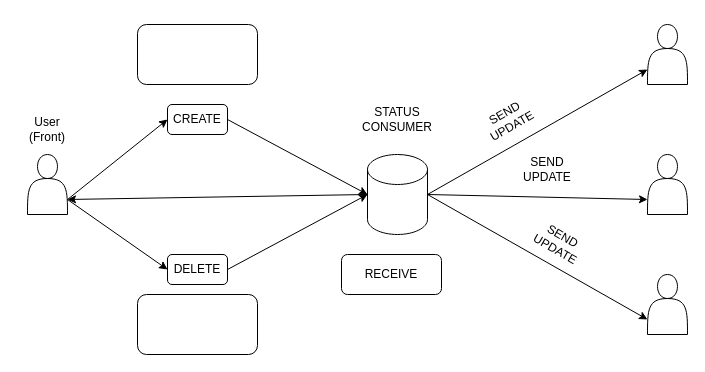
Image size: 705x372. Some labels were removed from this diagram. Each missing label, with the centre of its shape:
"ID (via dataset)" goes at (x=197, y=324).
"Text Image" goes at (x=197, y=54).
